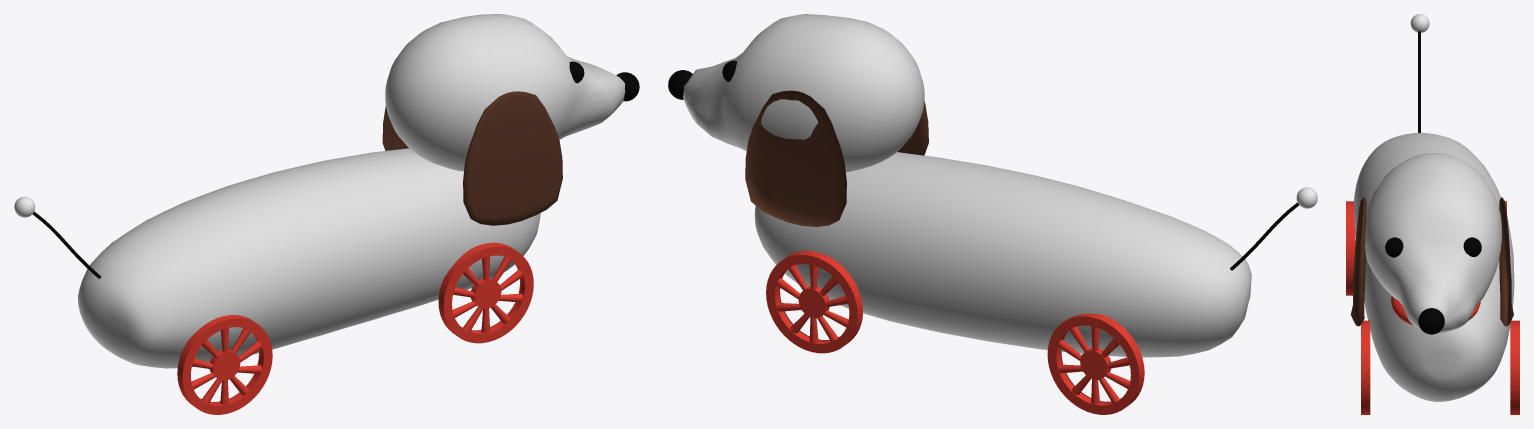
Rendered from WheelDodge.fbx.
The picture shows the model from 3 angles, left to right: view 1: azimuth 30°, elevation 25°; view 2: azimuth 150°, elevation 25°; view 3: azimuth 270°, elevation 25°; orthographic projection. The views are drawn at different scales.
Visible parts, largest first — view 1: Sphere.001, Sphere, BezierCircle.001, Cube.001; view 2: Sphere.001, Sphere, BezierCircle.001, Cube.001; view 3: Sphere, Sphere.001, BezierCircle.001, Cube.001, Sphere.004, Torus, BezierCurve, Sphere.003, Sphere.002, Sphere.005.
Boxes of the visible parts, box(x1,y1,x2,y2) form: Sphere.001: box(78, 148, 540, 368); Sphere: box(385, 14, 625, 171); BezierCircle.001: box(177, 242, 533, 414); Cube.001: box(382, 91, 562, 225); Sphere.001: box(754, 152, 1251, 357); Sphere: box(683, 14, 924, 172); BezierCircle.001: box(766, 251, 1144, 414); Cube.001: box(745, 90, 928, 226); Sphere: box(1365, 153, 1501, 333); Sphere.001: box(1354, 132, 1514, 401); BezierCircle.001: box(1346, 201, 1519, 414); Cube.001: box(1350, 197, 1513, 326); Sphere.004: box(1418, 308, 1444, 334); Torus: box(1391, 296, 1480, 325); BezierCurve: box(1418, 31, 1420, 132); Sphere.003: box(1385, 237, 1403, 257); Sphere.002: box(1410, 14, 1429, 32); Sphere.005: box(1463, 237, 1481, 256).
Size of the model in its own units: 677 by 292 by 179.
